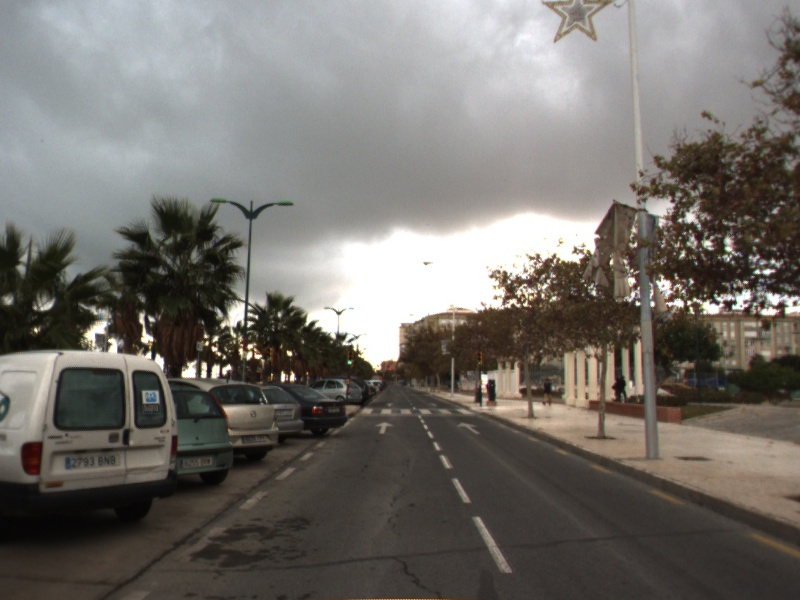STRAIGHT: (455, 420, 482, 436), (373, 420, 396, 435)
